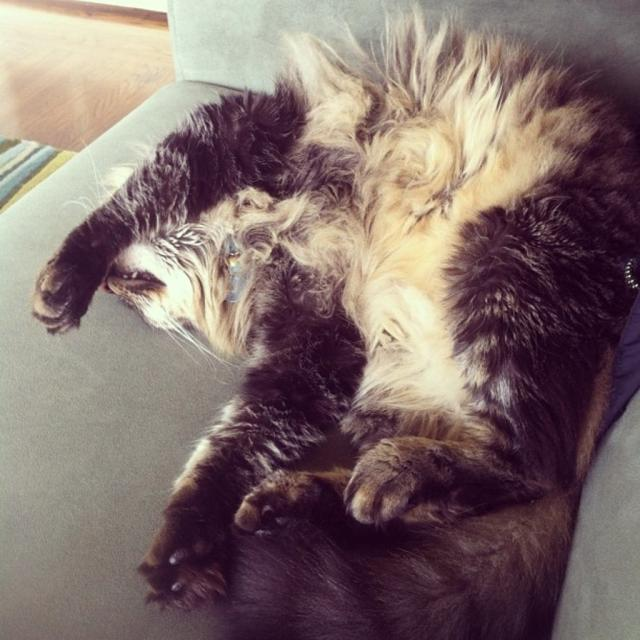Cat: (31, 0, 638, 638)
